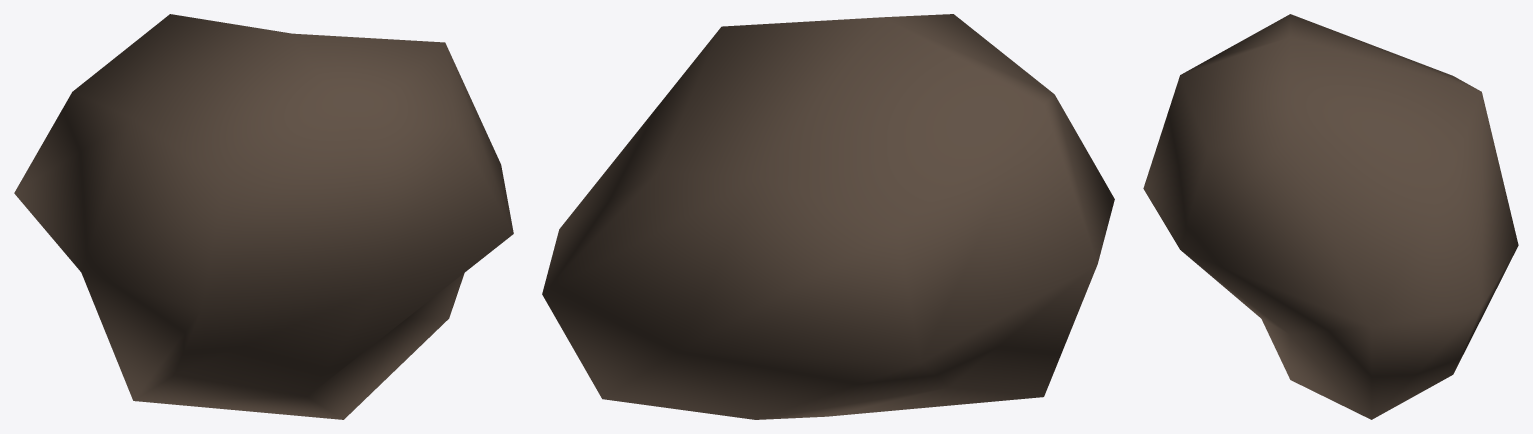
File: Rock_1.fbx
3 renders of one model, left to right at view 1: azimuth 30°, elevation 25°; view 2: azimuth 150°, elevation 25°; view 3: azimuth 270°, elevation 25°, orthographic. The views are drawn at different scales.
Parts seen in each view (by area): view 1: pCube1; view 2: pCube1; view 3: pCube1.
Part boxes in pixels (bbox=[...]): pCube1: bbox=[14, 14, 513, 419]; pCube1: bbox=[542, 14, 1114, 419]; pCube1: bbox=[1143, 14, 1518, 419].
Bounding box in the file's own units: 27.26 × 22.14 × 23.43.
